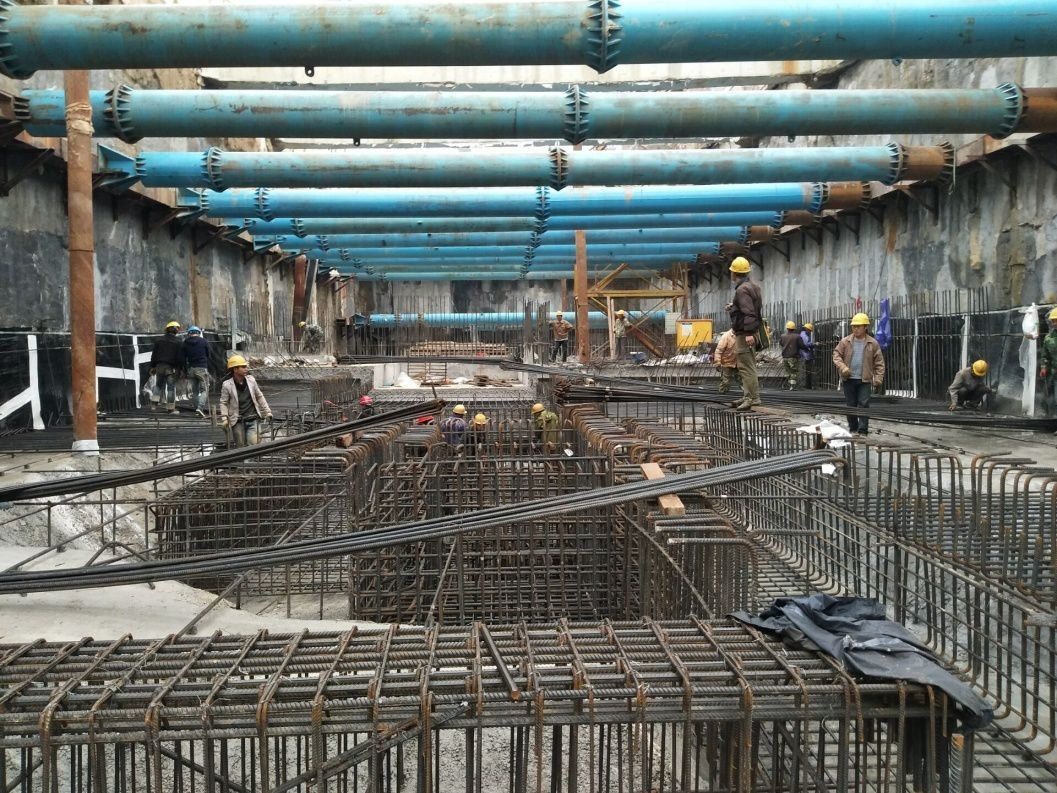blue: (186, 325, 201, 338)
red: (357, 395, 373, 410)
yellow: (729, 255, 750, 281), (226, 354, 248, 376), (850, 312, 869, 337), (970, 359, 987, 377), (451, 403, 465, 418), (164, 321, 180, 334), (474, 413, 487, 429), (532, 403, 544, 416), (784, 320, 796, 332), (802, 323, 813, 334), (617, 309, 625, 318), (299, 320, 306, 329), (556, 310, 562, 319)
